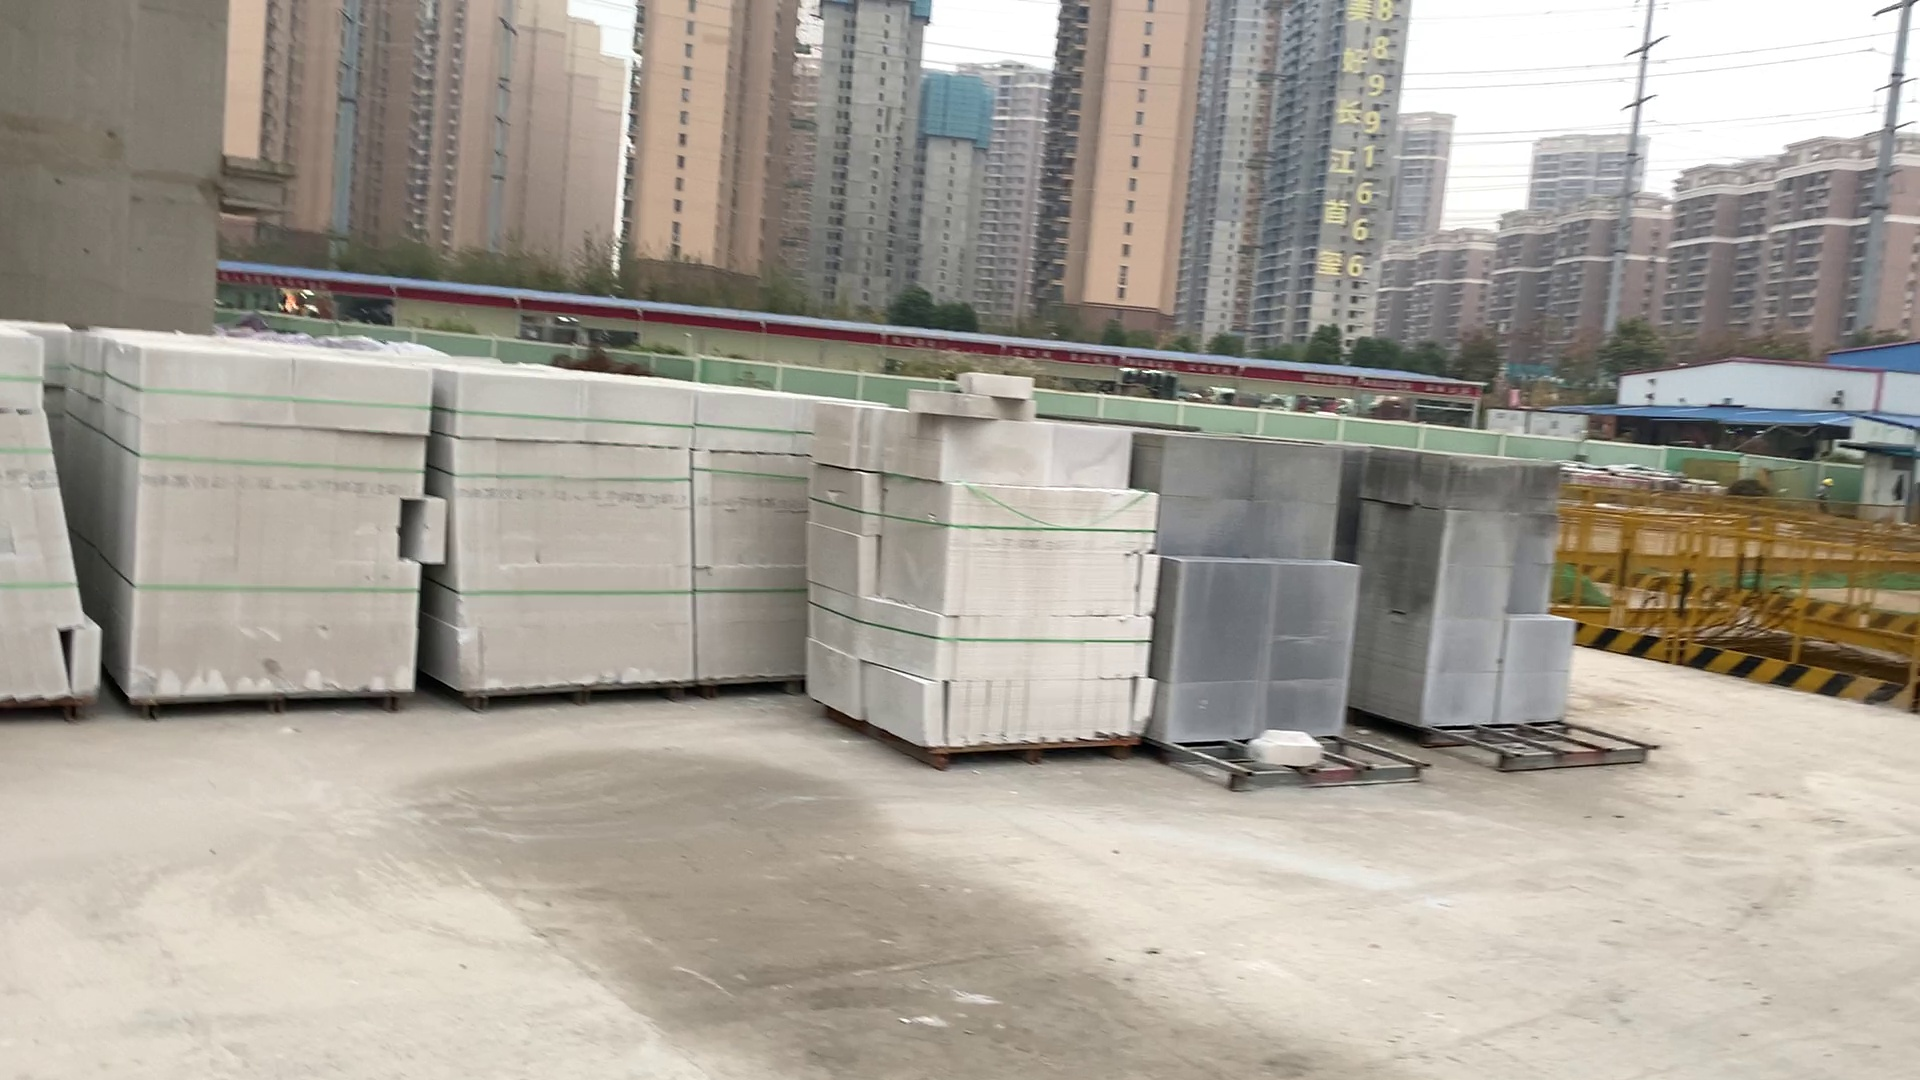brickwork: (811, 396, 1153, 753), (109, 339, 427, 707), (438, 368, 695, 702), (1153, 431, 1358, 753), (1362, 454, 1569, 741), (3, 327, 113, 708), (696, 381, 814, 683)
